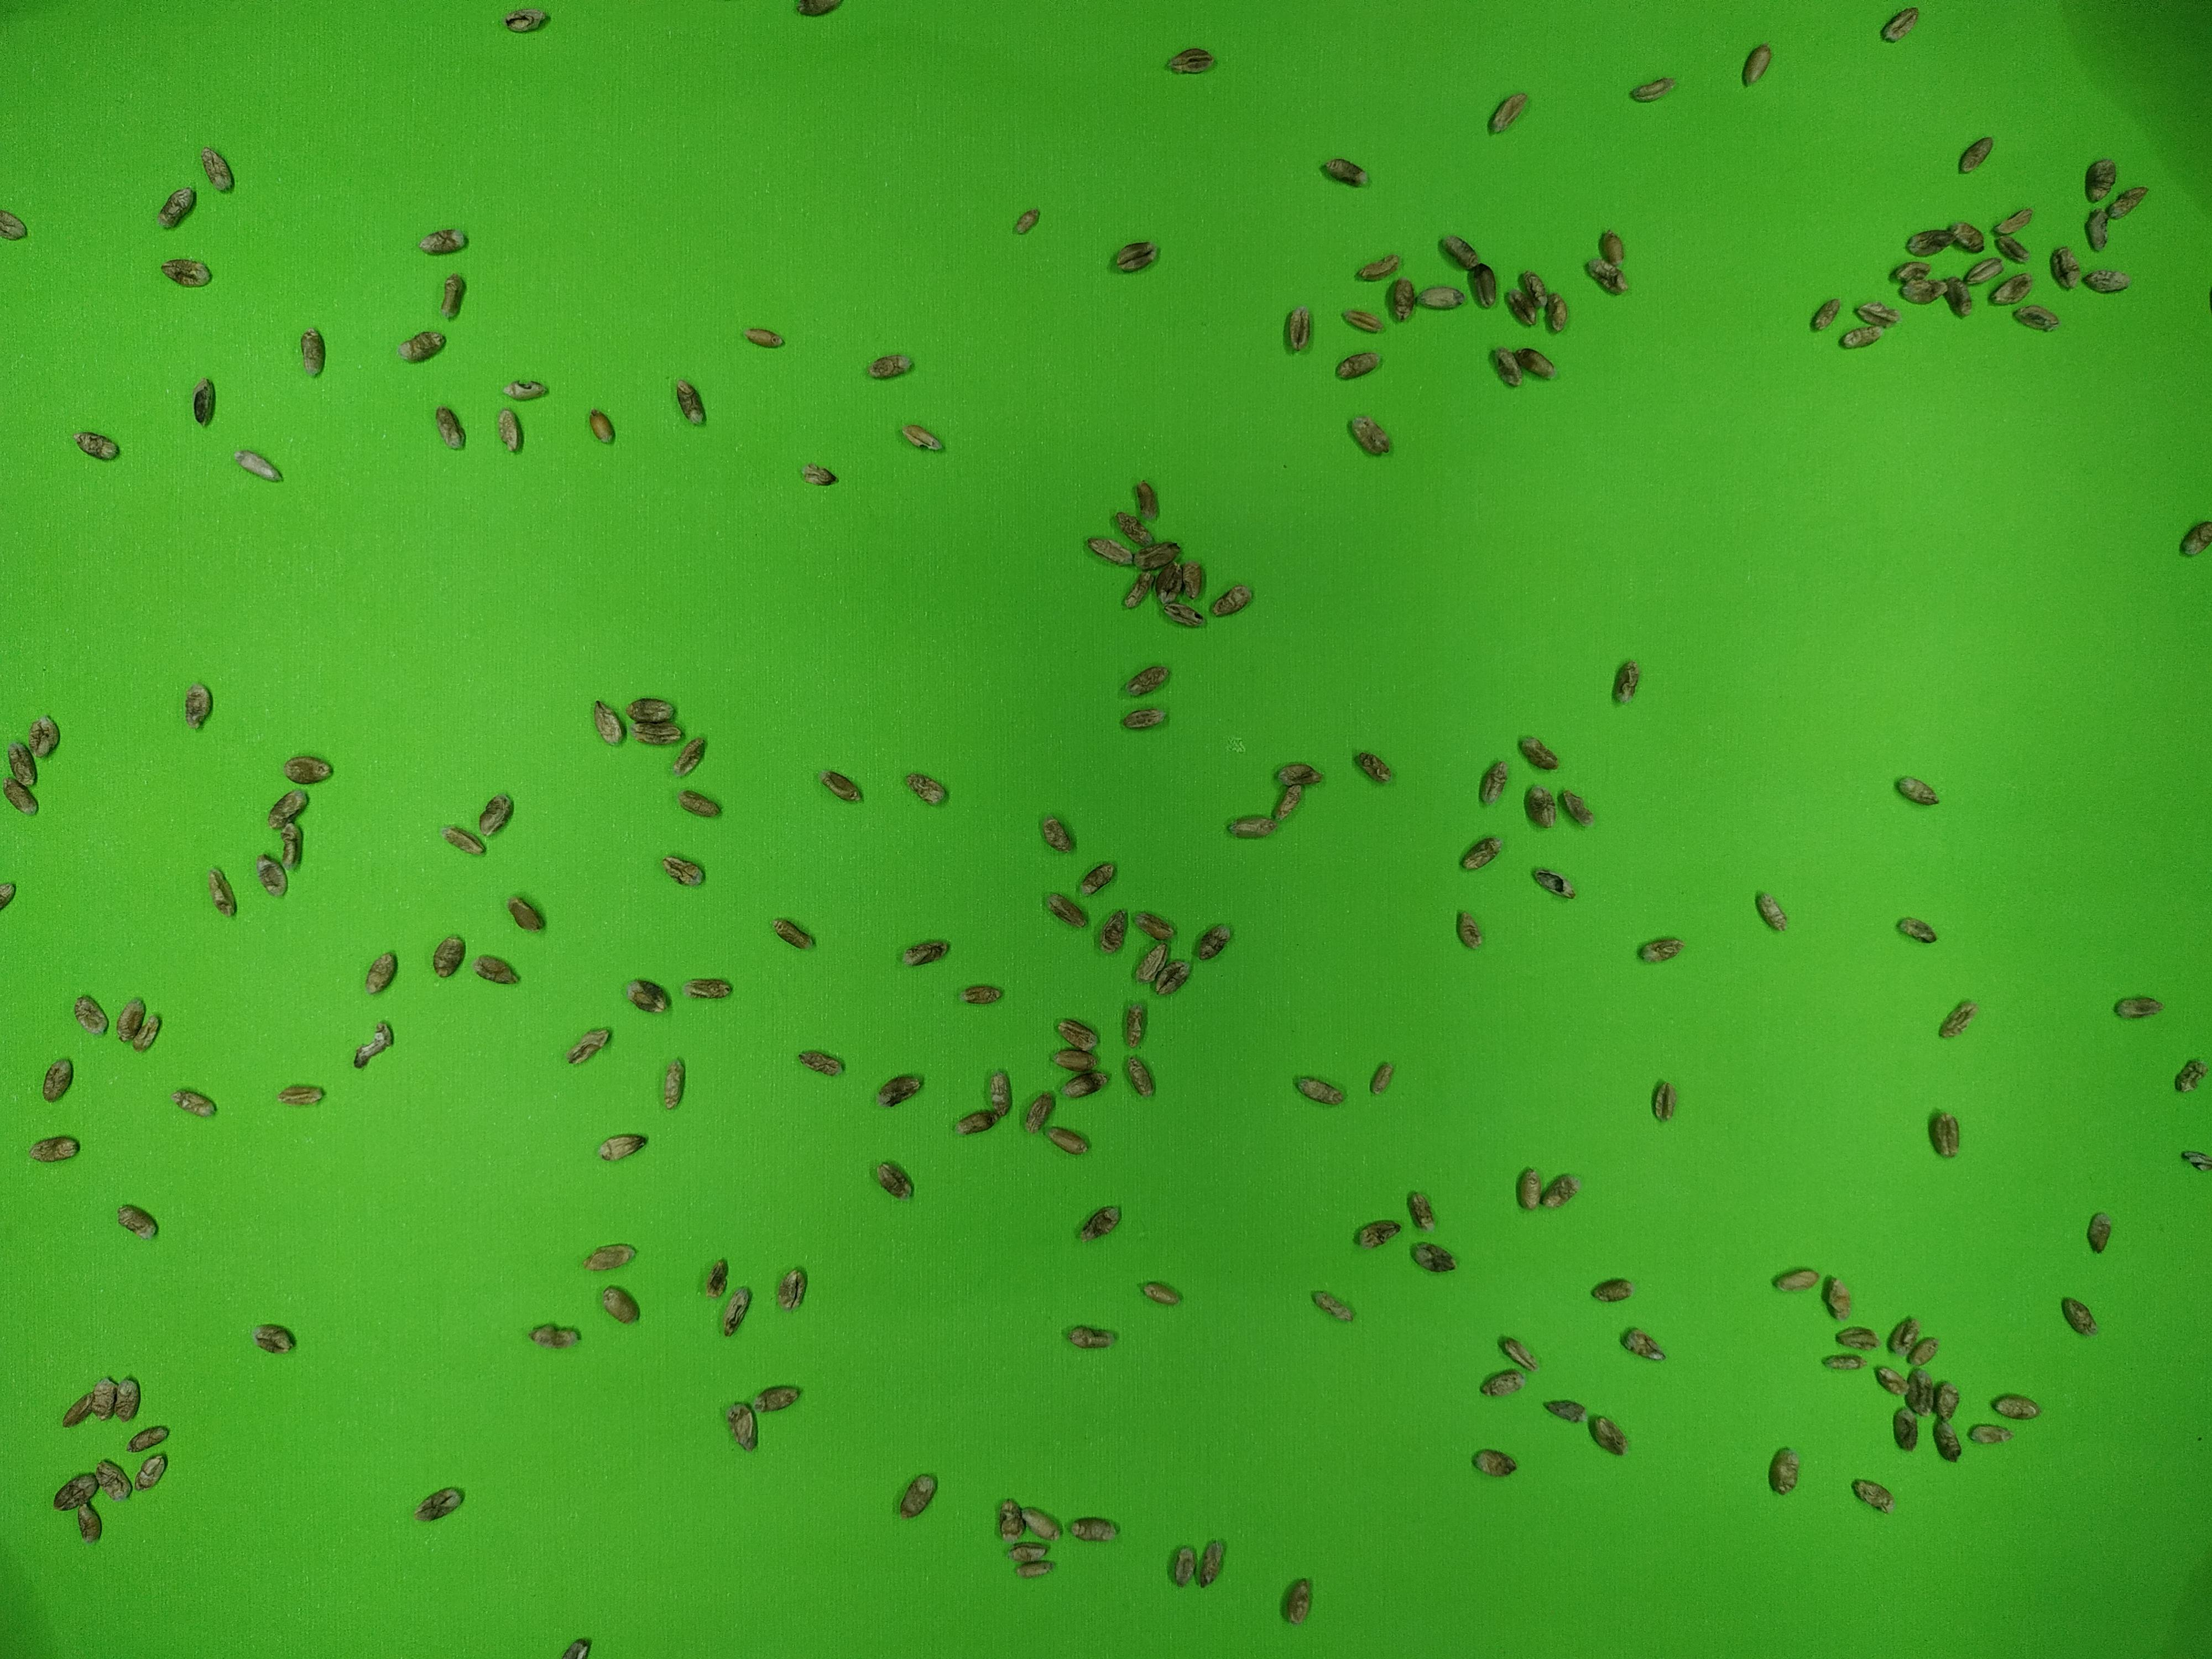danado: (354, 1016, 403, 1071), (204, 859, 242, 918), (1735, 38, 1777, 92), (1922, 1109, 1963, 1162), (1113, 235, 1161, 280), (1604, 656, 1646, 707), (667, 377, 709, 427), (671, 785, 723, 824), (1042, 1122, 1094, 1161), (1279, 1575, 1316, 1629), (1511, 1163, 1548, 1216), (1130, 535, 1181, 573), (2114, 988, 2168, 1024), (273, 815, 308, 871), (773, 1263, 810, 1314), (672, 729, 709, 781), (1538, 289, 1576, 340), (599, 1282, 641, 1327), (1077, 1204, 1126, 1242), (1350, 410, 1389, 457), (181, 679, 216, 732), (1192, 919, 1233, 964), (1154, 954, 1193, 1001), (1438, 233, 1484, 273), (132, 1448, 171, 1494), (280, 752, 333, 786), (114, 995, 147, 1050), (1133, 908, 1180, 947), (1940, 272, 1975, 323), (490, 406, 526, 456), (117, 1200, 161, 1240), (1990, 1390, 2042, 1424), (500, 7, 554, 40), (296, 324, 329, 378), (1540, 1169, 1581, 1212), (1766, 1445, 1800, 1496), (1122, 1051, 1157, 1100), (589, 700, 625, 748), (897, 1473, 936, 1519), (875, 1157, 914, 1203), (428, 934, 467, 979), (28, 710, 62, 762), (624, 976, 670, 1014), (1387, 272, 1418, 329), (39, 1056, 73, 1107), (1081, 534, 1133, 567), (95, 1457, 133, 1503), (1521, 784, 1557, 832), (250, 1319, 298, 1355), (1310, 1287, 1355, 1325), (363, 948, 399, 997), (477, 791, 513, 838), (1752, 888, 1787, 937), (1021, 1088, 1056, 1138), (1588, 252, 1626, 296), (1528, 865, 1578, 899), (472, 952, 520, 988), (436, 267, 468, 320), (727, 1399, 759, 1452), (1020, 1504, 1063, 1543), (160, 184, 196, 231), (770, 916, 817, 952), (1509, 275, 1541, 328), (1128, 474, 1164, 522), (1282, 300, 1312, 356), (1166, 43, 1214, 77), (2107, 181, 2149, 222), (1556, 789, 1597, 830), (505, 893, 545, 935), (1615, 1326, 1662, 1362), (1037, 814, 1076, 857), (1821, 1276, 1855, 1325), (2081, 157, 2119, 202), (1293, 1073, 1341, 1108), (1119, 999, 1151, 1052), (0, 773, 36, 818), (1851, 1476, 1897, 1512), (1927, 1420, 1968, 1460), (1588, 1414, 1628, 1455), (2047, 244, 2081, 291), (904, 770, 949, 806), (595, 1129, 646, 1161), (1478, 1367, 1526, 1401), (1937, 999, 1976, 1040), (1517, 734, 1559, 773), (1046, 891, 1088, 930), (1409, 1239, 1455, 1275), (1167, 1541, 1200, 1591), (1588, 1273, 1637, 1306), (1770, 1262, 1822, 1293), (876, 1072, 922, 1107), (1118, 702, 1168, 734), (432, 400, 463, 452), (658, 1058, 690, 1108), (2085, 265, 2135, 298), (2060, 1295, 2096, 1339), (1124, 662, 1170, 697), (1953, 137, 1997, 173), (74, 992, 106, 1040), (187, 379, 221, 426), (1010, 1538, 1051, 1578), (1460, 835, 1501, 874), (1491, 346, 1529, 388), (1895, 912, 1940, 947), (127, 1420, 170, 1456), (1468, 258, 1498, 310), (1449, 909, 1483, 955), (1470, 1447, 1516, 1480), (1067, 1513, 1118, 1543), (1131, 946, 1171, 985), (109, 1375, 143, 1422), (2080, 1209, 2114, 1255), (584, 1241, 635, 1272), (1172, 559, 1211, 598), (1646, 1077, 1679, 1123), (1052, 1041, 1096, 1076), (402, 327, 444, 364), (163, 255, 208, 289), (864, 351, 911, 383), (1924, 1380, 1963, 1419), (1062, 1068, 1109, 1100), (1832, 1323, 1881, 1354), (419, 225, 464, 258), (70, 1504, 109, 1542), (74, 429, 119, 462), (1473, 764, 1507, 808), (1212, 583, 1253, 619), (901, 935, 948, 967), (254, 855, 290, 898), (1415, 282, 1465, 312), (1486, 93, 1529, 128), (797, 1047, 846, 1078), (1194, 1538, 1227, 1584), (568, 1026, 611, 1060), (1515, 346, 1558, 380), (1402, 1190, 1436, 1233), (899, 420, 943, 454), (525, 1322, 580, 1348), (1887, 1406, 1920, 1451), (820, 768, 861, 803), (60, 1390, 95, 1432), (720, 1286, 750, 1334), (1887, 1316, 1920, 1361), (2081, 204, 2112, 251), (995, 1498, 1026, 1545), (1354, 750, 1393, 787), (268, 790, 305, 830), (1901, 278, 1949, 307), (234, 447, 276, 481), (1594, 225, 1628, 267), (1353, 1217, 1399, 1248), (1158, 598, 1206, 628), (30, 1134, 81, 1162), (754, 1383, 800, 1413), (627, 697, 672, 728), (201, 147, 232, 192), (681, 973, 731, 1001), (1906, 1333, 1943, 1370), (1880, 7, 1917, 45), (1125, 567, 1158, 610), (1136, 1280, 1184, 1309), (417, 1488, 457, 1522), (1893, 775, 1937, 807), (1055, 1018, 1097, 1051), (659, 857, 706, 886), (2018, 302, 2062, 334), (1853, 298, 1899, 327), (985, 1069, 1015, 1115), (1964, 258, 2008, 289), (1905, 1371, 1937, 1414), (1110, 509, 1150, 544), (2171, 1056, 2205, 1096), (740, 322, 786, 352), (957, 980, 1003, 1010), (1272, 760, 1318, 790), (1321, 156, 1364, 187), (53, 1476, 97, 1507), (503, 377, 550, 405), (170, 1087, 215, 1118), (1872, 1366, 1915, 1397), (1543, 1395, 1584, 1427), (1336, 351, 1380, 381), (1495, 1338, 1537, 1369), (1079, 862, 1118, 895), (1962, 1422, 2014, 1447), (1224, 814, 1276, 839), (89, 1370, 114, 1422), (1342, 306, 1384, 337), (1989, 273, 2034, 302), (701, 1256, 731, 1300), (138, 1008, 166, 1055), (956, 1107, 998, 1138), (1271, 785, 1305, 822), (1356, 254, 1401, 283), (1, 210, 39, 243), (8, 742, 37, 786), (1095, 917, 1130, 953), (1902, 228, 1948, 256), (1635, 937, 1684, 963), (1065, 1326, 1114, 1352), (275, 1081, 320, 1109), (796, 459, 840, 487), (1366, 1058, 1398, 1097), (1624, 79, 1674, 104), (1816, 1349, 1870, 1372), (1885, 257, 1931, 283), (1806, 297, 1840, 332), (1012, 204, 1044, 241), (1839, 323, 1882, 351), (634, 721, 680, 746), (2169, 1146, 2212, 1173), (440, 825, 479, 854), (1946, 222, 1983, 254), (1992, 234, 2033, 263), (587, 405, 614, 446), (1995, 208, 2036, 234), (1382, 288, 1421, 315), (1516, 266, 1546, 299)
